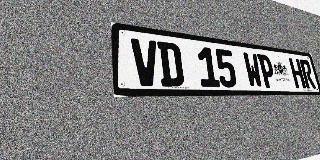1: (196, 46, 220, 87)
5: (215, 48, 238, 87)
D: (157, 41, 185, 87)
H: (288, 58, 306, 88)
P: (257, 54, 277, 88)
R: (299, 59, 316, 89)
V: (131, 38, 160, 86)
W: (242, 52, 264, 88)
